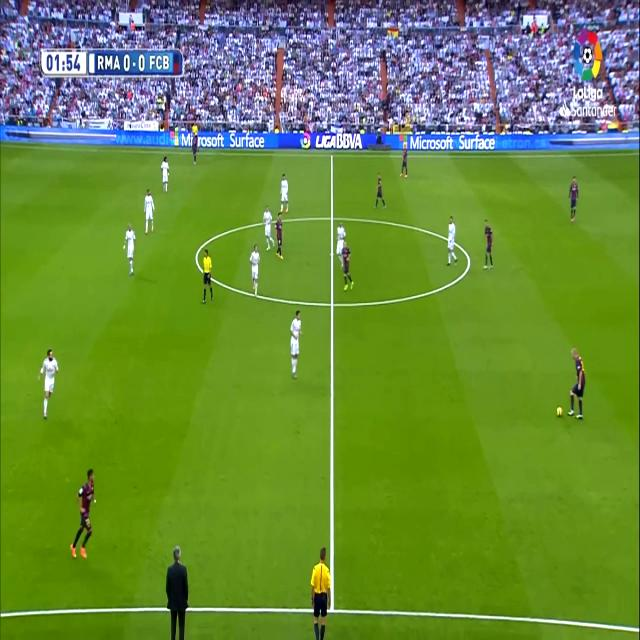halfcircle_bottom: (327, 290, 338, 316)
halfcircle_top: (327, 207, 337, 227)
midline_bottom_intersection: (326, 596, 338, 618)
midline_top_intersection: (328, 149, 336, 162)
